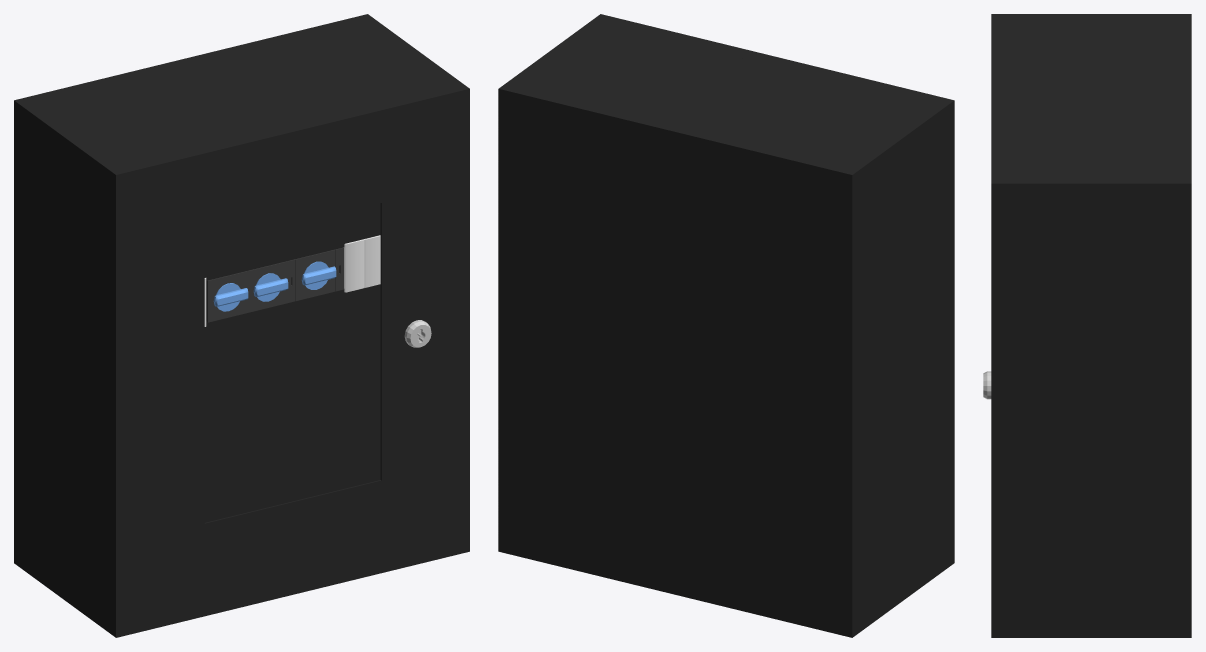
Rendered from WholeBox.FBX.
3 views of the same model, side by side, from view 1: azimuth 30°, elevation 25°; view 2: azimuth 150°, elevation 25°; view 3: azimuth 270°, elevation 25° (orthographic).
Visible parts, largest first — view 1: Door, Box, InnerPanel, Switch1, Switch003, Switch002; view 2: Box, Door; view 3: Box, Door.
Boxes of the visible parts, x1,y1,x2,y2 form: Door: (106, 81, 469, 637); Box: (14, 14, 459, 630); InnerPanel: (204, 203, 380, 522); Switch1: (206, 271, 248, 322); Switch003: (295, 249, 336, 300); Switch002: (247, 261, 288, 312); Box: (498, 21, 944, 637); Door: (591, 14, 954, 570); Box: (1011, 14, 1191, 637); Door: (983, 14, 1011, 637).
Size of the model in its own units: 40 by 50 by 20.8.
